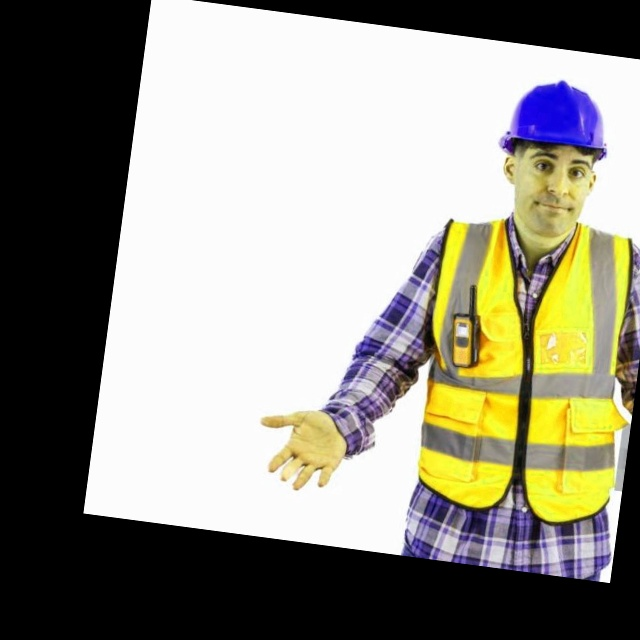Con_Casco: (488, 75, 618, 242)
Con_Chaleco: (403, 207, 640, 522)
